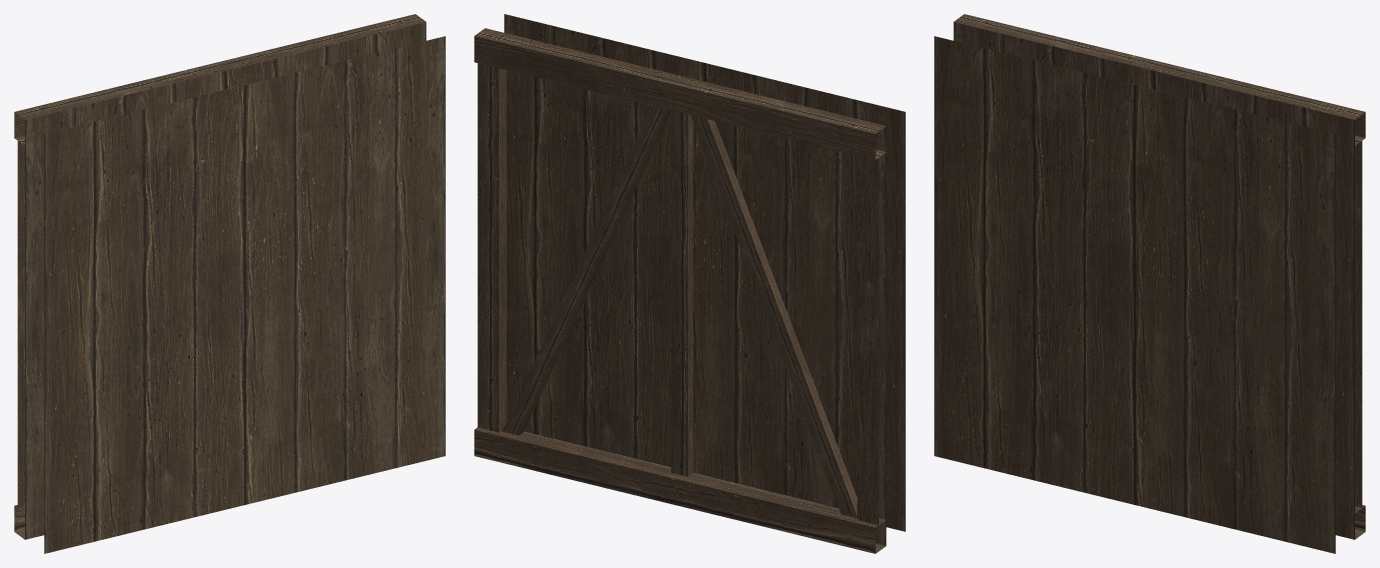
File: ARC1010282.fbx
The picture shows the model from 3 angles, left to right: view 1: azimuth 30°, elevation 25°; view 2: azimuth 150°, elevation 25°; view 3: azimuth 330°, elevation 25°; orthographic projection.
Visible parts, largest first — view 1: smARC1010282; view 2: smARC1010282; view 3: smARC1010282.
Part boxes in pixels (x1=…): smARC1010282: x1=14, y1=14, x2=445, y2=553; smARC1010282: x1=474, y1=14, x2=905, y2=553; smARC1010282: x1=934, y1=14, x2=1365, y2=553.
Size of the model in its own units: 268 by 268 by 34.9.
1 material, 1 textured.
